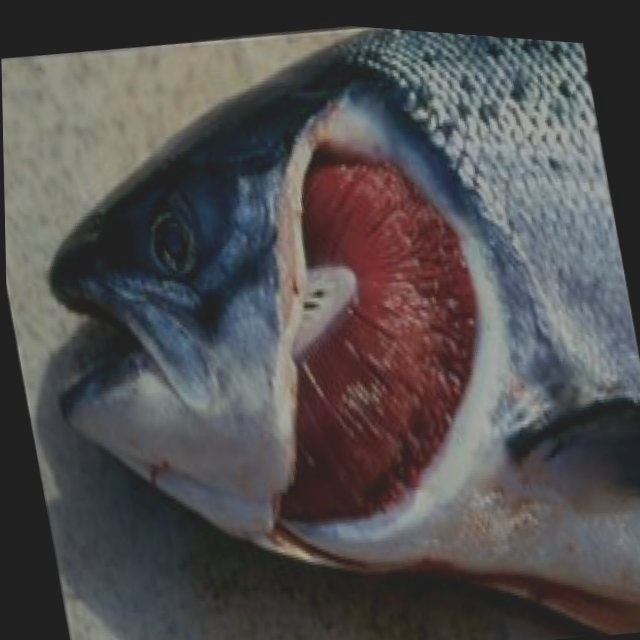Gill Disease: (46, 44, 630, 586)
